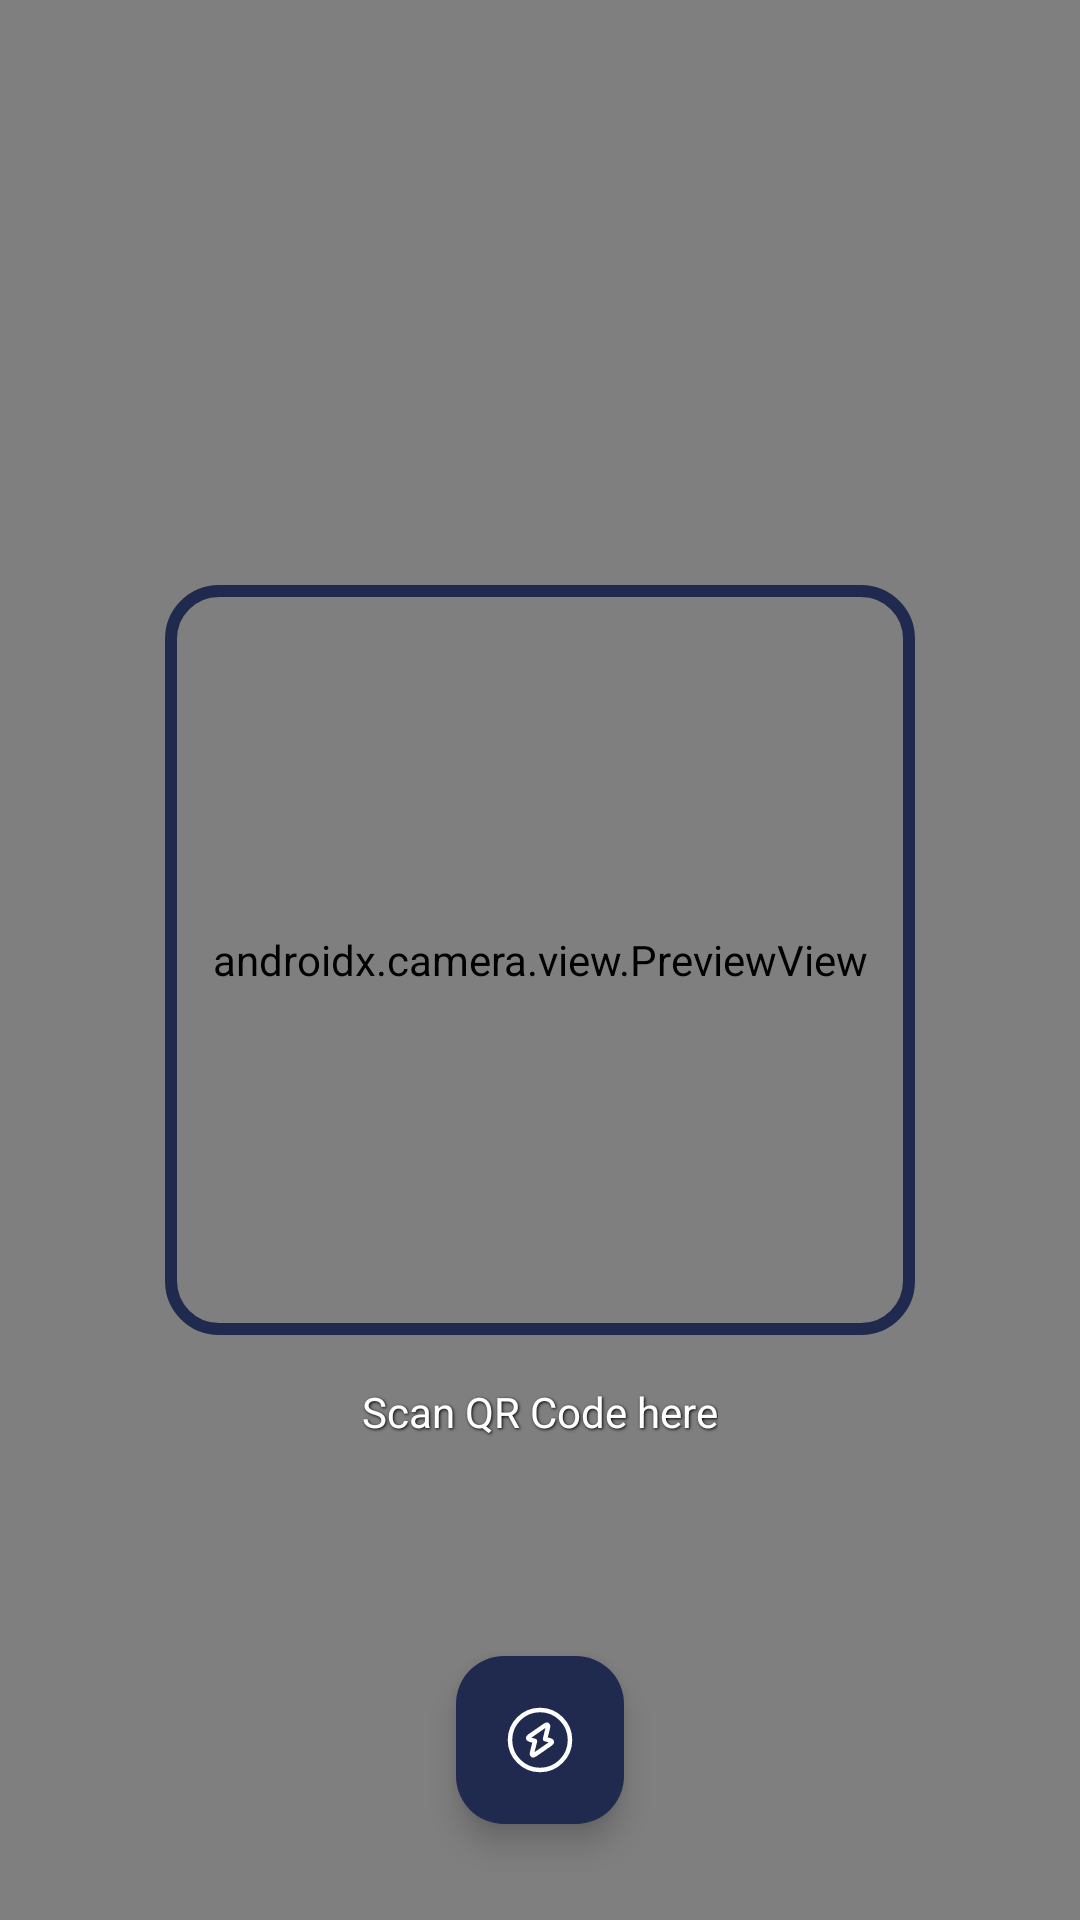

Locate icon controls on the screen. Image size 1080 × 1920, boxes as (x1, y1, x2, y2).
flash on: (456, 1656, 624, 1824)
